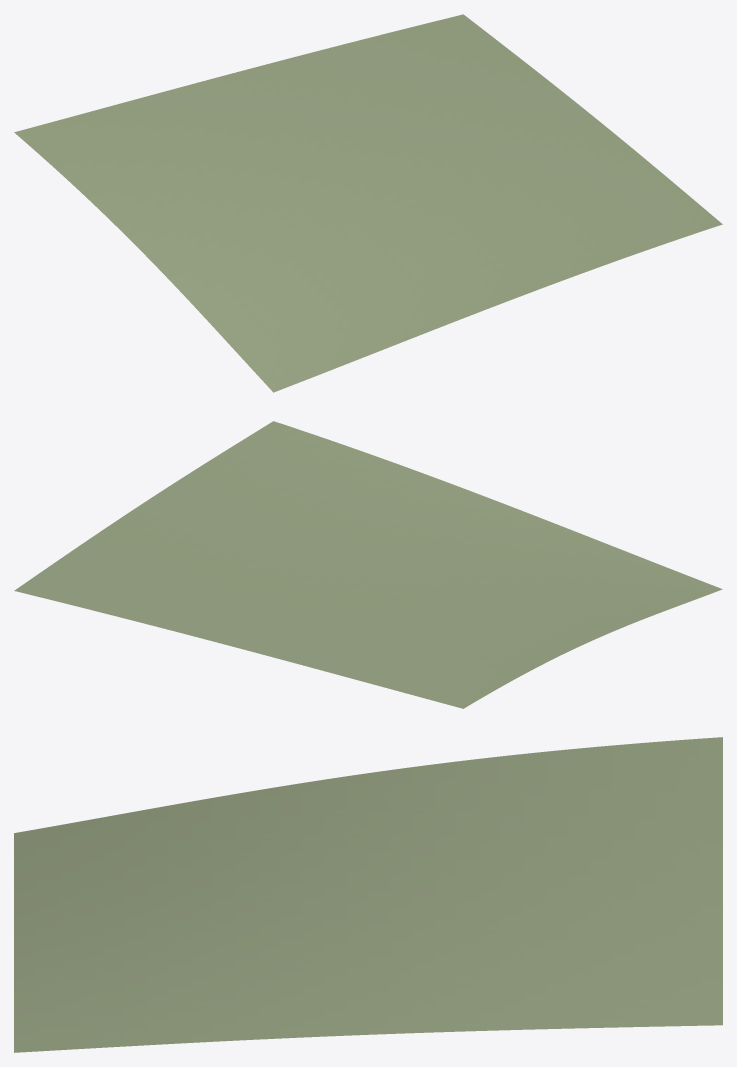
File: expanse-27-9.glb
The picture shows the model from 3 angles, top to bottom: view 1: azimuth 30°, elevation 25°; view 2: azimuth 150°, elevation 25°; view 3: azimuth 270°, elevation 25°; orthographic projection. The views are drawn at different scales.
Visible parts, largest first — view 1: expanse-27-9; view 2: expanse-27-9; view 3: expanse-27-9.
Boxes of the visible parts, <box> form: expanse-27-9: <box>14,14,722,392</box>; expanse-27-9: <box>14,421,722,708</box>; expanse-27-9: <box>14,737,722,1052</box>.
Bounding box in the file's own units: 256 × 42.83 × 256.
